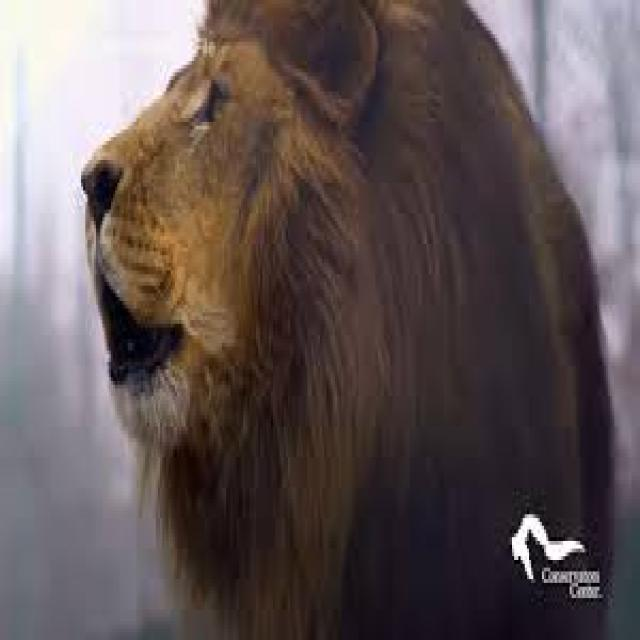Lion: (81, 0, 610, 636)
